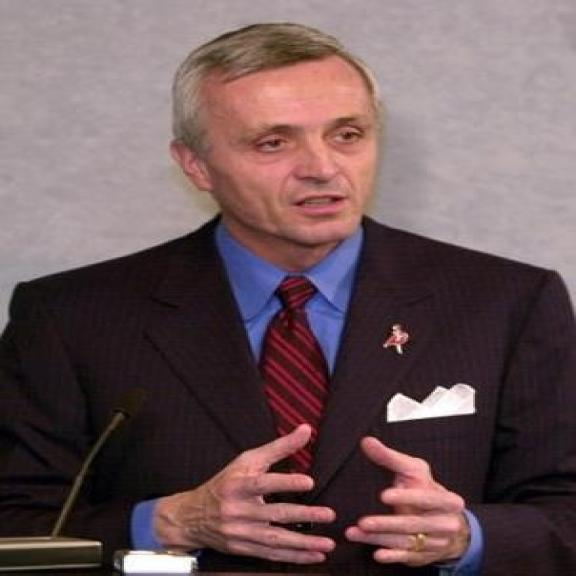face: (168, 21, 384, 246)
